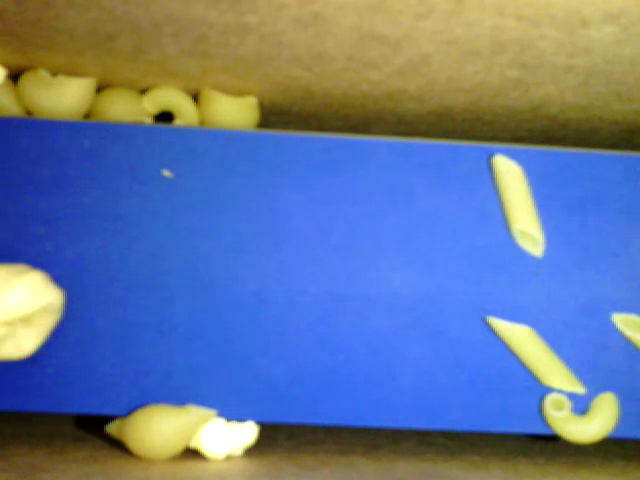elbow: (540, 392, 620, 444), (143, 84, 198, 125)
penne: (485, 315, 585, 394), (489, 153, 547, 258)
shell: (103, 402, 219, 462), (15, 69, 96, 119), (196, 86, 257, 130), (90, 87, 154, 123), (609, 311, 639, 348)
tortellini: (1, 261, 67, 362)
